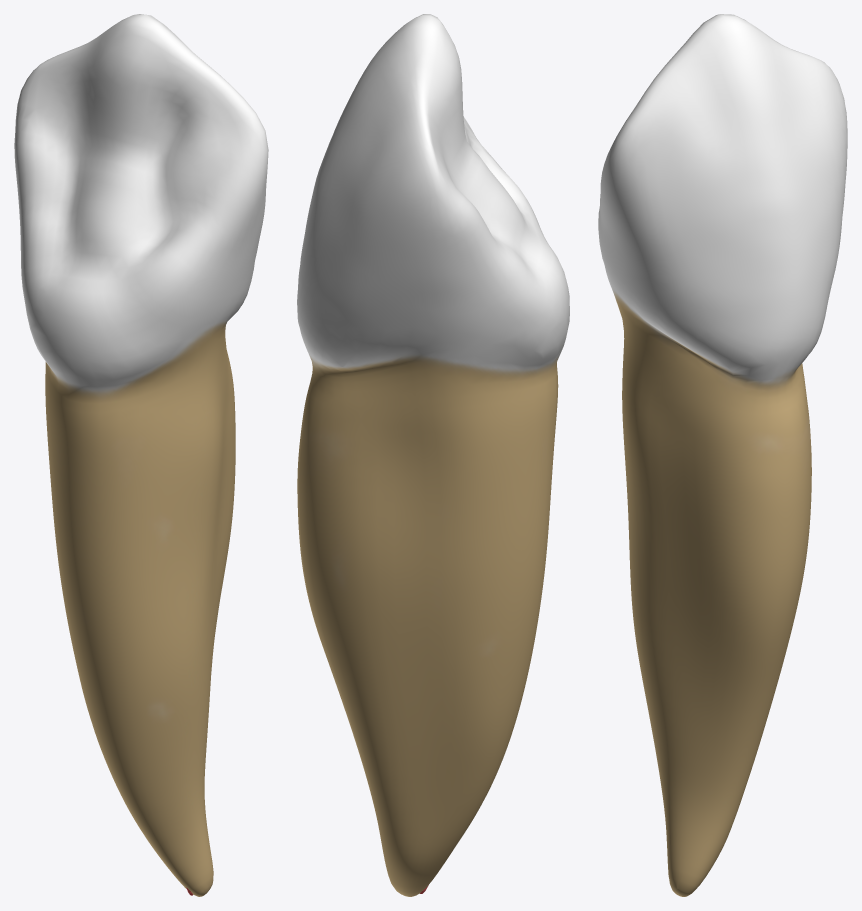
The picture shows the model from 3 angles, left to right: view 1: azimuth 30°, elevation 25°; view 2: azimuth 150°, elevation 25°; view 3: azimuth 270°, elevation 25°; orthographic projection. The views are drawn at different scales.
Visible parts, largest first — view 1: outer; view 2: outer; view 3: outer.
Part boxes in pixels (x1=…): outer: x1=14, y1=14, x2=268, y2=896; outer: x1=297, y1=14, x2=569, y2=896; outer: x1=598, y1=14, x2=847, y2=896.
Size of the model in its own units: 3.08 by 11.82 by 3.1.
Materials: 2 (1 with a texture image).
